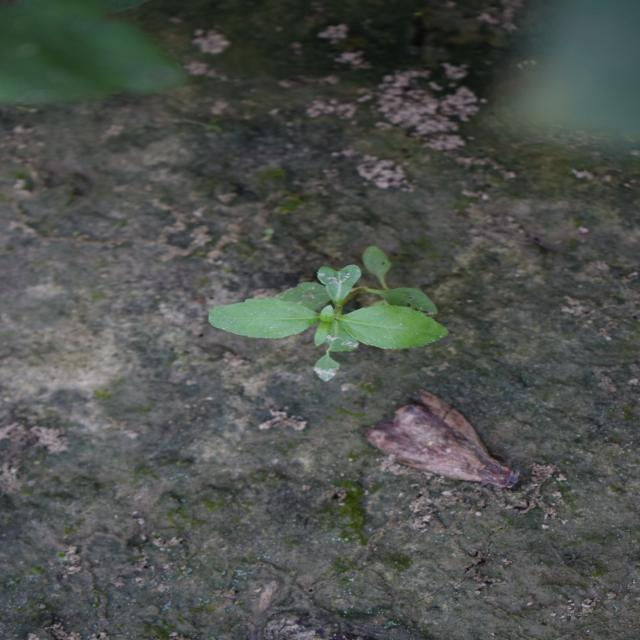Eclipta: (206, 244, 452, 384)
